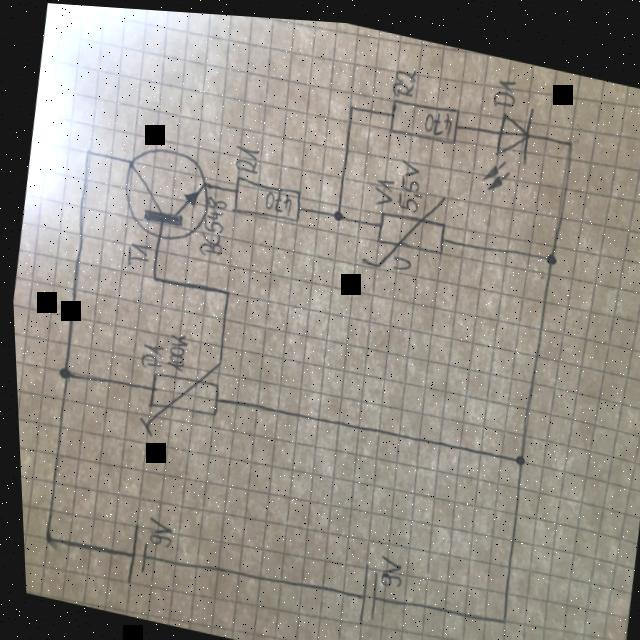diode: (474, 90, 537, 193)
junction: (52, 363, 68, 382), (508, 445, 523, 462), (34, 530, 48, 547), (541, 244, 555, 259), (328, 204, 342, 219), (79, 144, 92, 160), (146, 269, 157, 283), (344, 97, 354, 110), (219, 284, 228, 297), (491, 610, 501, 621), (563, 131, 572, 143)
resistor: (128, 341, 223, 451), (224, 169, 304, 227), (382, 87, 460, 144)
source: (346, 555, 377, 627), (115, 520, 147, 589)
text: (192, 192, 227, 258), (391, 153, 425, 210), (369, 547, 400, 588), (159, 329, 187, 374), (138, 512, 170, 550), (419, 102, 453, 136), (228, 138, 260, 174), (387, 60, 417, 96), (489, 69, 519, 105), (120, 237, 150, 271), (367, 169, 394, 205), (260, 185, 292, 215), (134, 338, 161, 371), (386, 248, 410, 271)
transistor: (111, 136, 215, 247)
